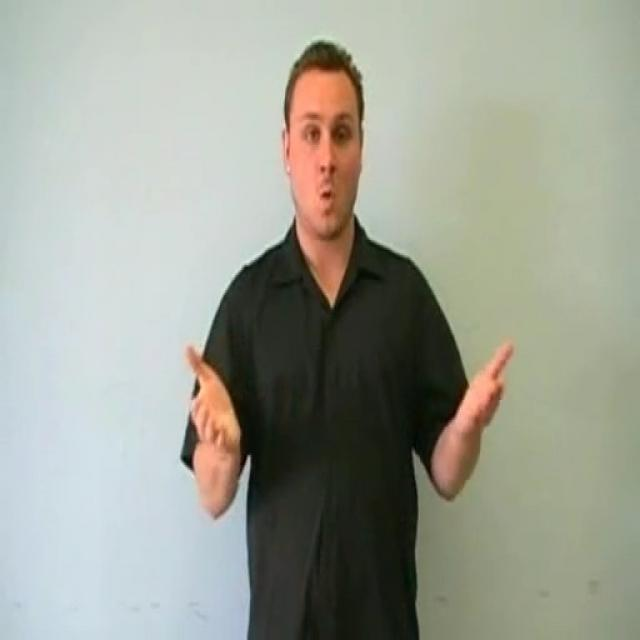what: (160, 320, 518, 460)
